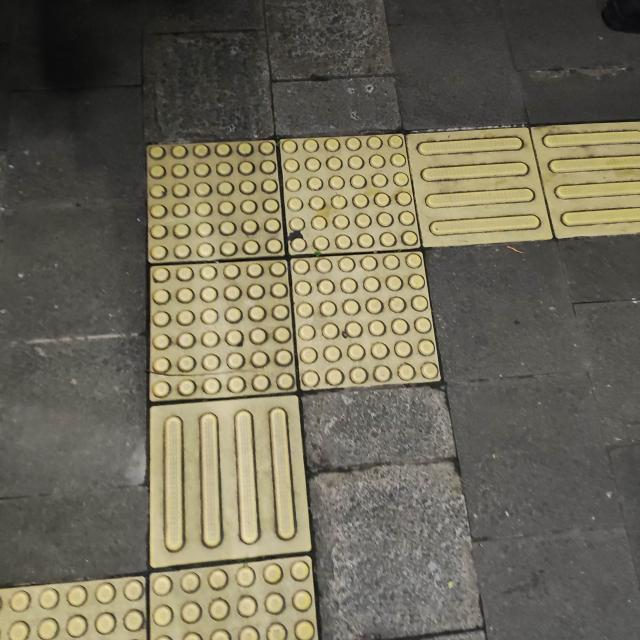kanan: (77, 80, 640, 458)
